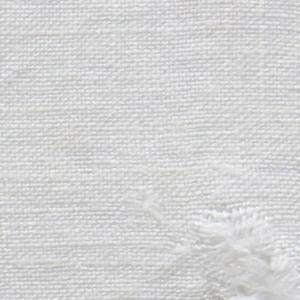Damage: (140, 191, 299, 300)
